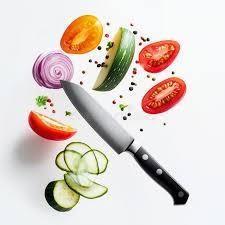Knife: (59, 79, 189, 205)
